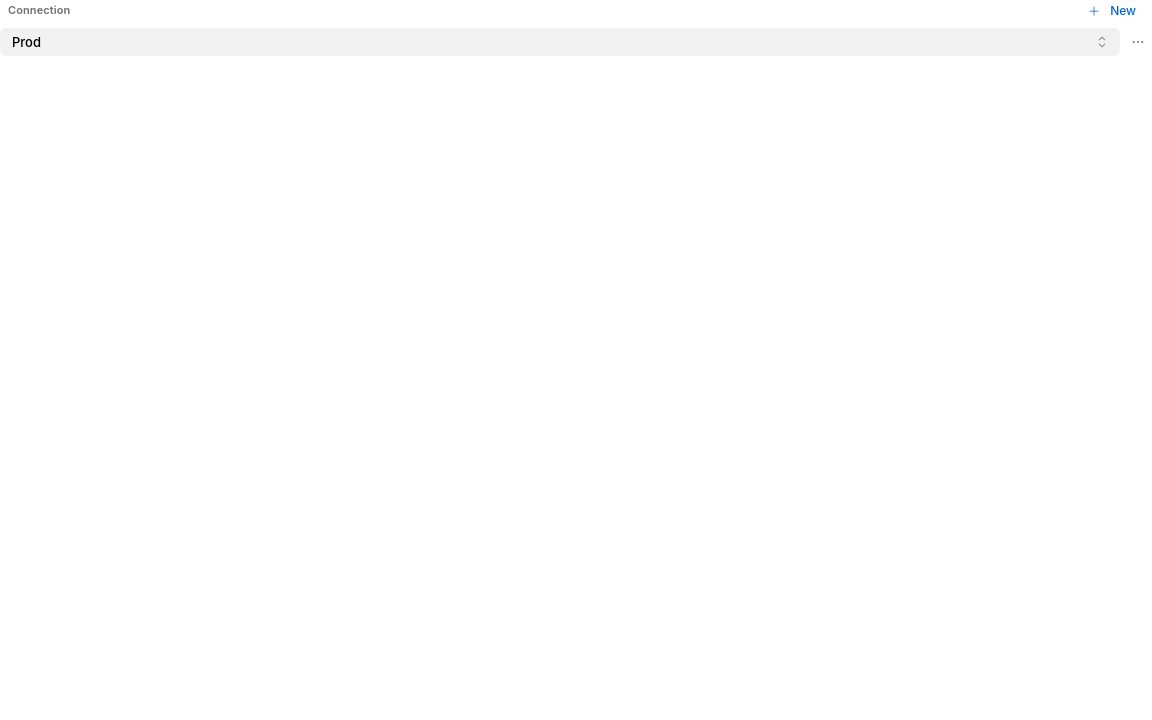
Test case: ConnectionList delete dialog › names the saved queries and waits for the count before Delete
Later steps or results of the test are not shown.
Click the button named "Connection actions" at (1138, 42), box [1124, 28, 1151, 56]
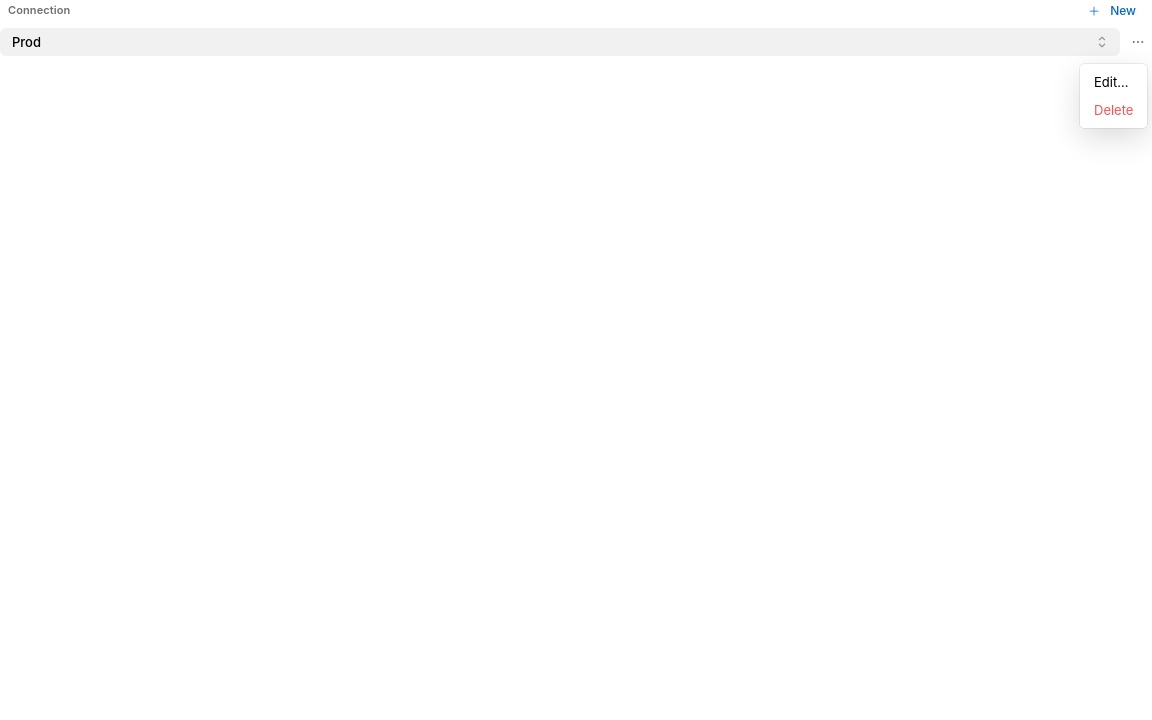
Click the menu item "Delete" at (1113, 110), box [1084, 96, 1143, 124]
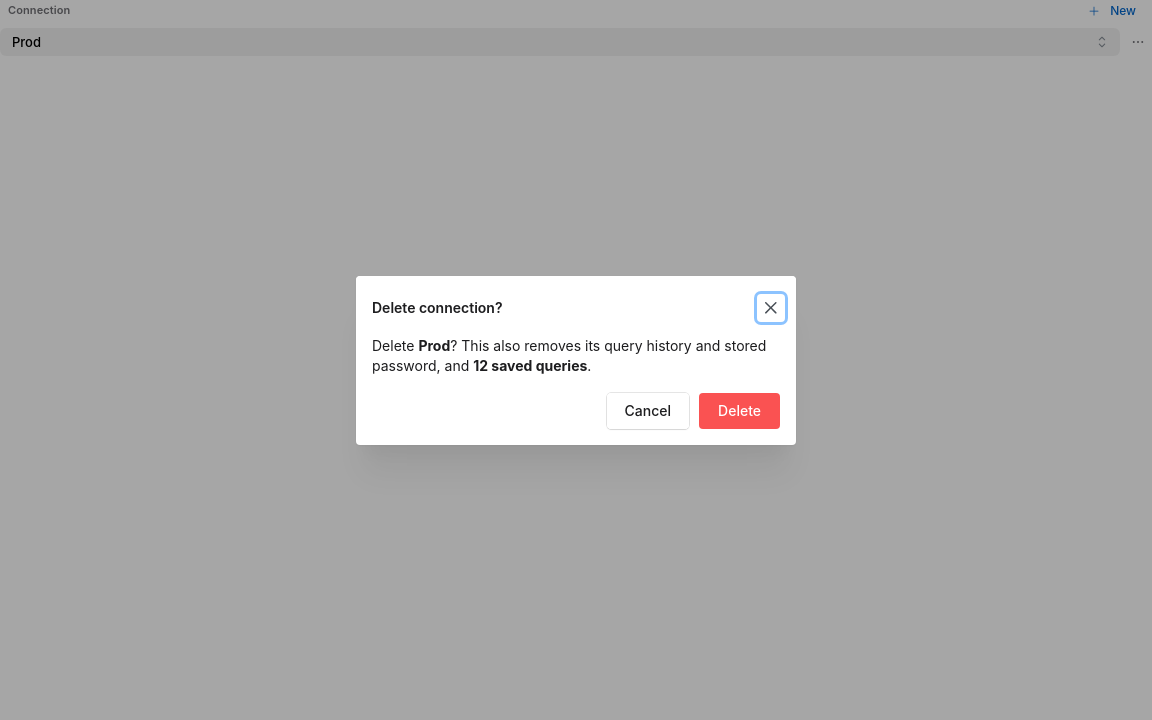
Now the button "Delete" is enabled, box [699, 392, 780, 428]
Now the text "12 saved queries" is shown, box [473, 357, 587, 374]
